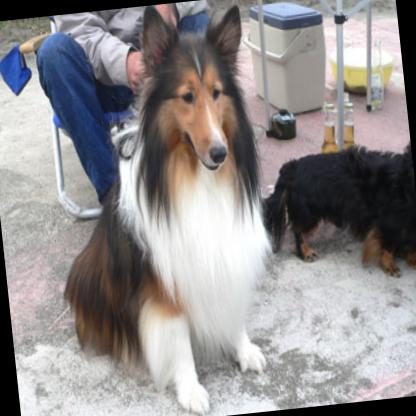Shetland_sheepdog: (30, 0, 289, 416), (252, 123, 416, 292)
